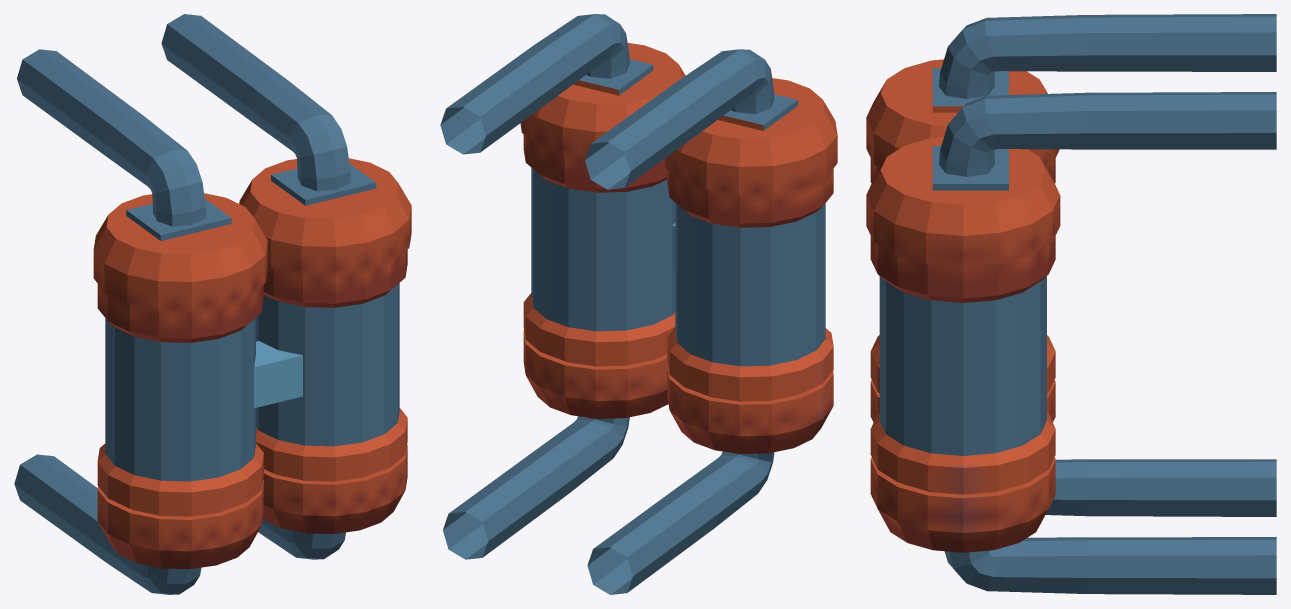
File: tank.fbx
The picture shows the model from 3 angles, left to right: view 1: azimuth 30°, elevation 25°; view 2: azimuth 150°, elevation 25°; view 3: azimuth 270°, elevation 25°; orthographic projection. The views are drawn at different scales.
Parts seen in each view (by area): view 1: Tank; view 2: Tank; view 3: Tank.
Boxes of the visible parts, x1,y1,x2,y2 form: Tank: [14, 14, 411, 594]; Tank: [440, 14, 837, 594]; Tank: [866, 14, 1276, 594].
Size of the model in its own units: 56.9 by 83.1 by 61.9.
1 material, 1 textured.
